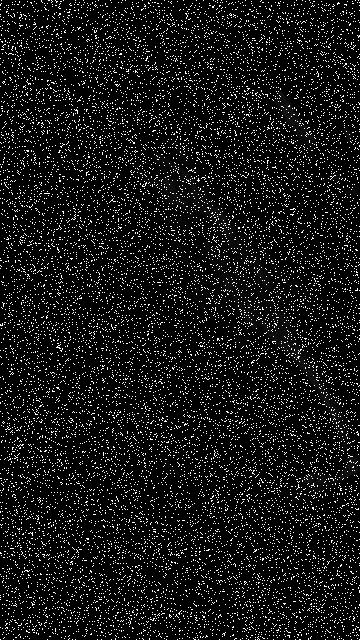pot: (190, 338, 342, 488)
